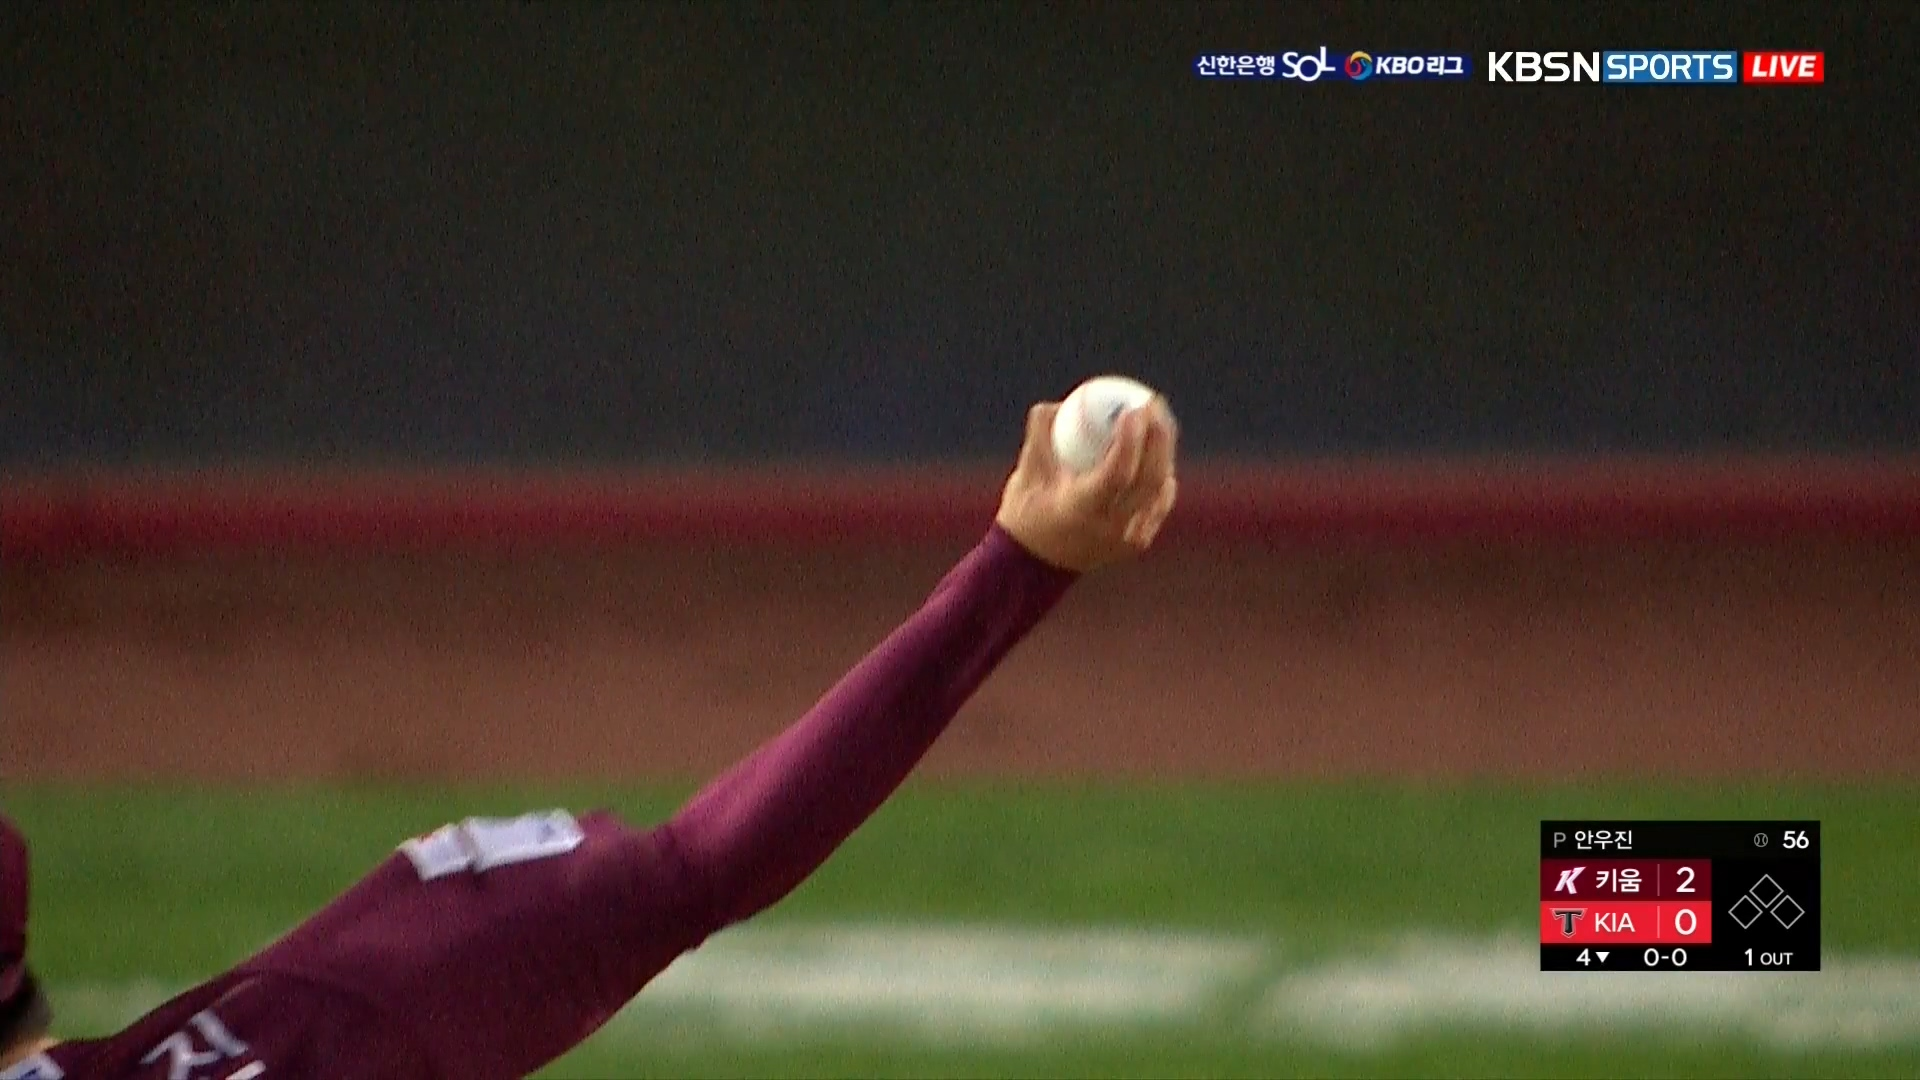zoomin_hand: (691, 380, 1180, 944)
